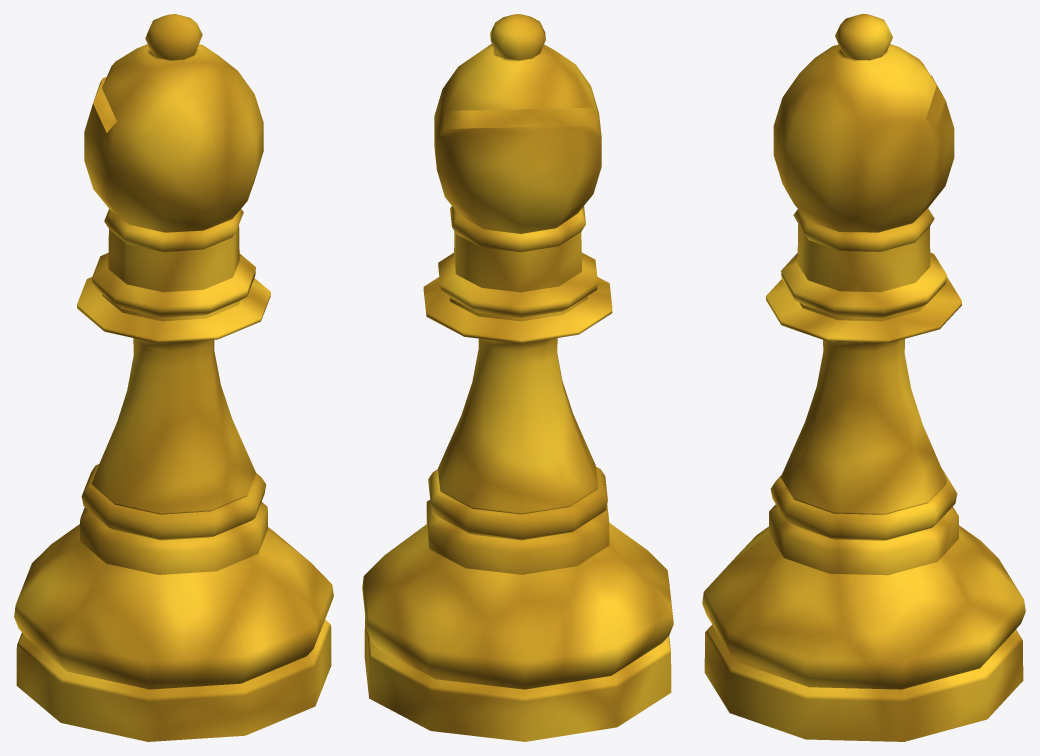
Rendered from item-2-1.glb.
3 views of the same model, side by side, from view 1: azimuth 30°, elevation 25°; view 2: azimuth 150°, elevation 25°; view 3: azimuth 270°, elevation 25° (orthographic).
Visible parts, largest first — view 1: BlackBishop; view 2: BlackBishop; view 3: BlackBishop.
Part boxes in pixels (left/top/right/bottom): BlackBishop: left=14, top=14, right=333, bottom=741; BlackBishop: left=362, top=14, right=673, bottom=741; BlackBishop: left=702, top=14, right=1025, bottom=741.
Size of the model in its own units: 0.0928 by 0.2155 by 0.0958.
Materials: 1 (1 with a texture image).
